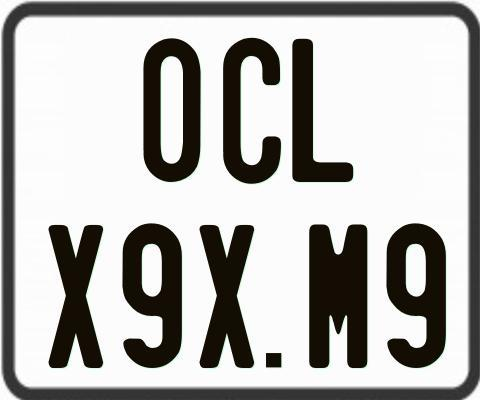0: (143, 35, 201, 181)
9: (122, 221, 188, 367), (383, 222, 443, 367)
C: (221, 38, 281, 190)
L: (291, 37, 355, 180)
M: (308, 221, 367, 366)
X: (198, 223, 257, 367), (48, 223, 105, 366)
